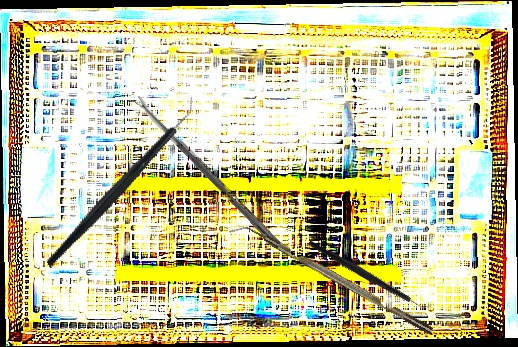Chopper: (8, 93, 232, 269), (228, 215, 435, 345), (307, 206, 434, 342)
Surgical Spoon: (133, 94, 282, 249)
